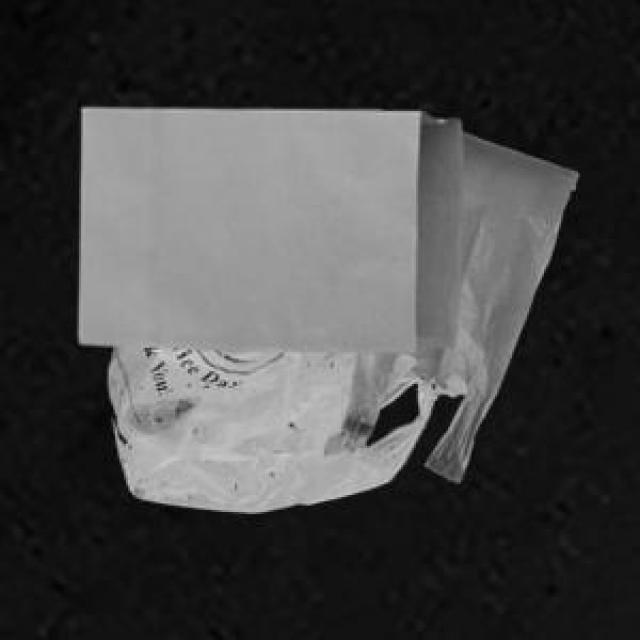paper: (75, 106, 459, 350)
